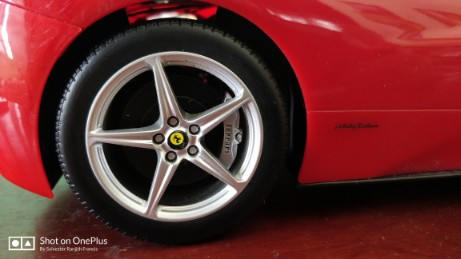aligned_wheel: (57, 21, 284, 237)
